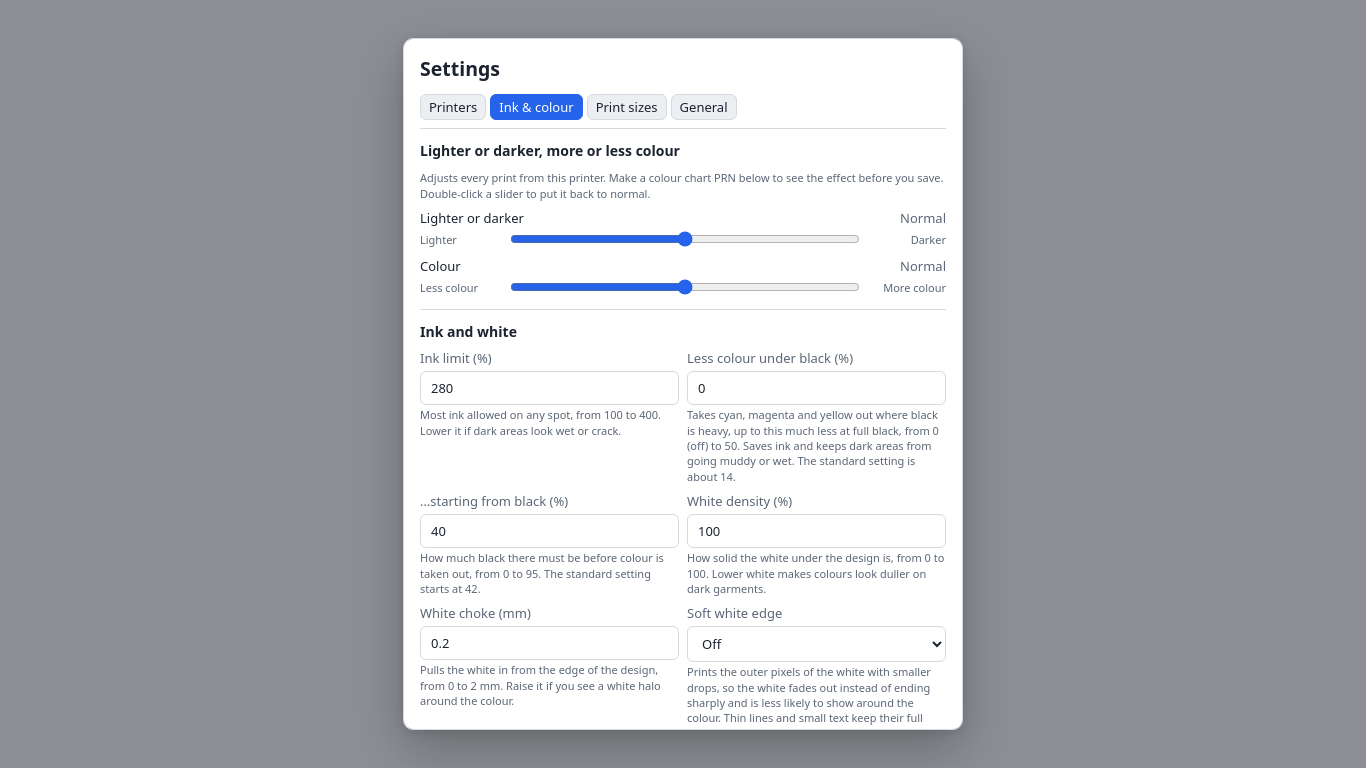
Test: Settings › Ink & colour › saves less colour under black, and refuses more than 50 %
Replace the text in the number field labelled "Less colour under black (%)" with "60": (816, 388) [687,371,946,405]
(page scrolled)
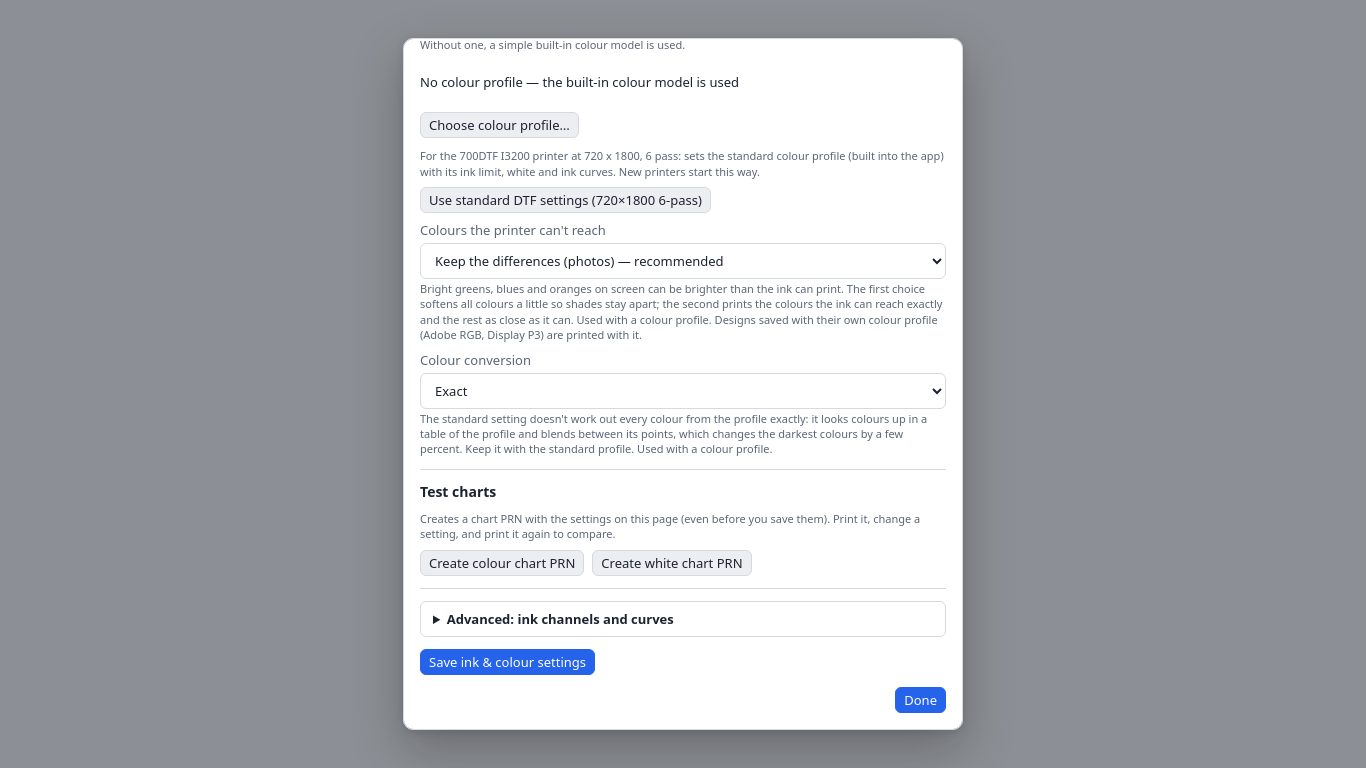
Click the button "Save ink & colour settings": (508, 662) [420,648,595,674]
(page scrolled)
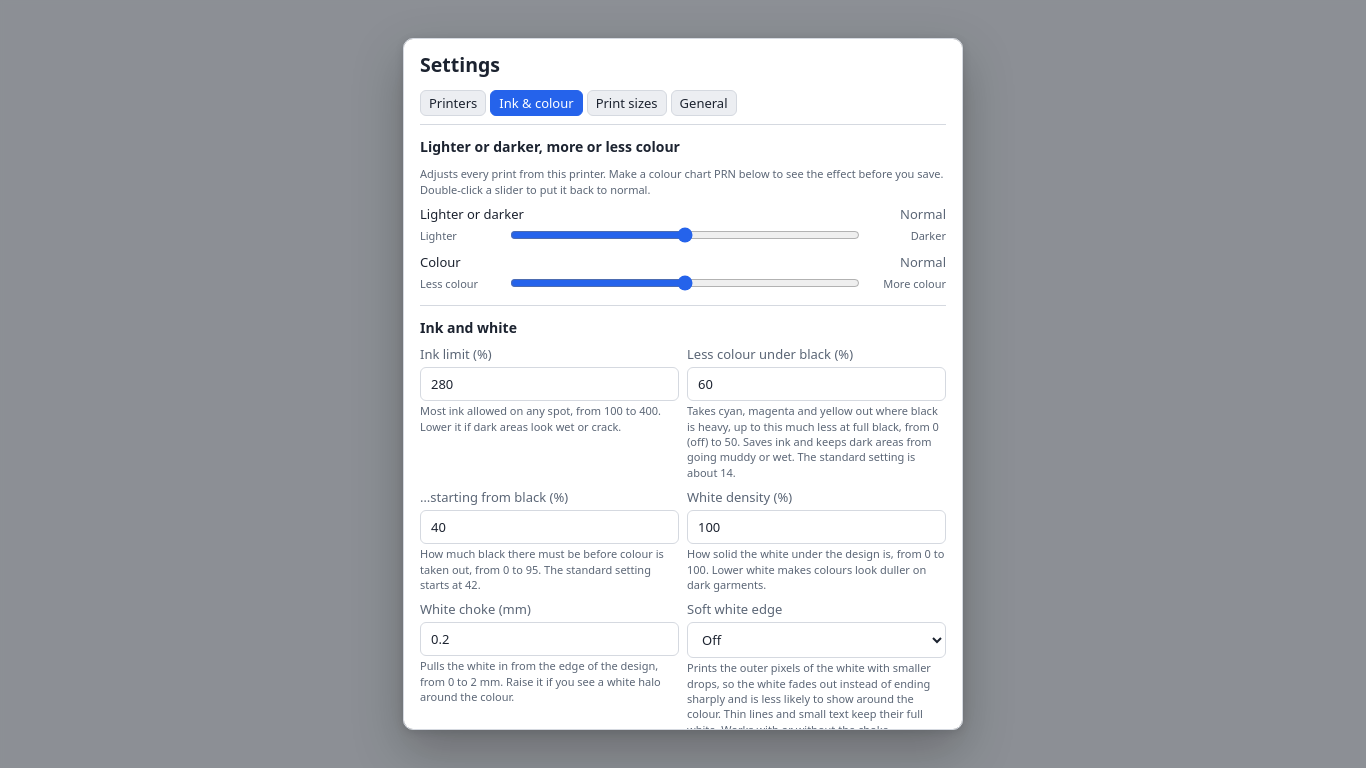
Replace the text in the number field labelled "Less colour under black (%)" with "10": (816, 384) [687,367,946,401]
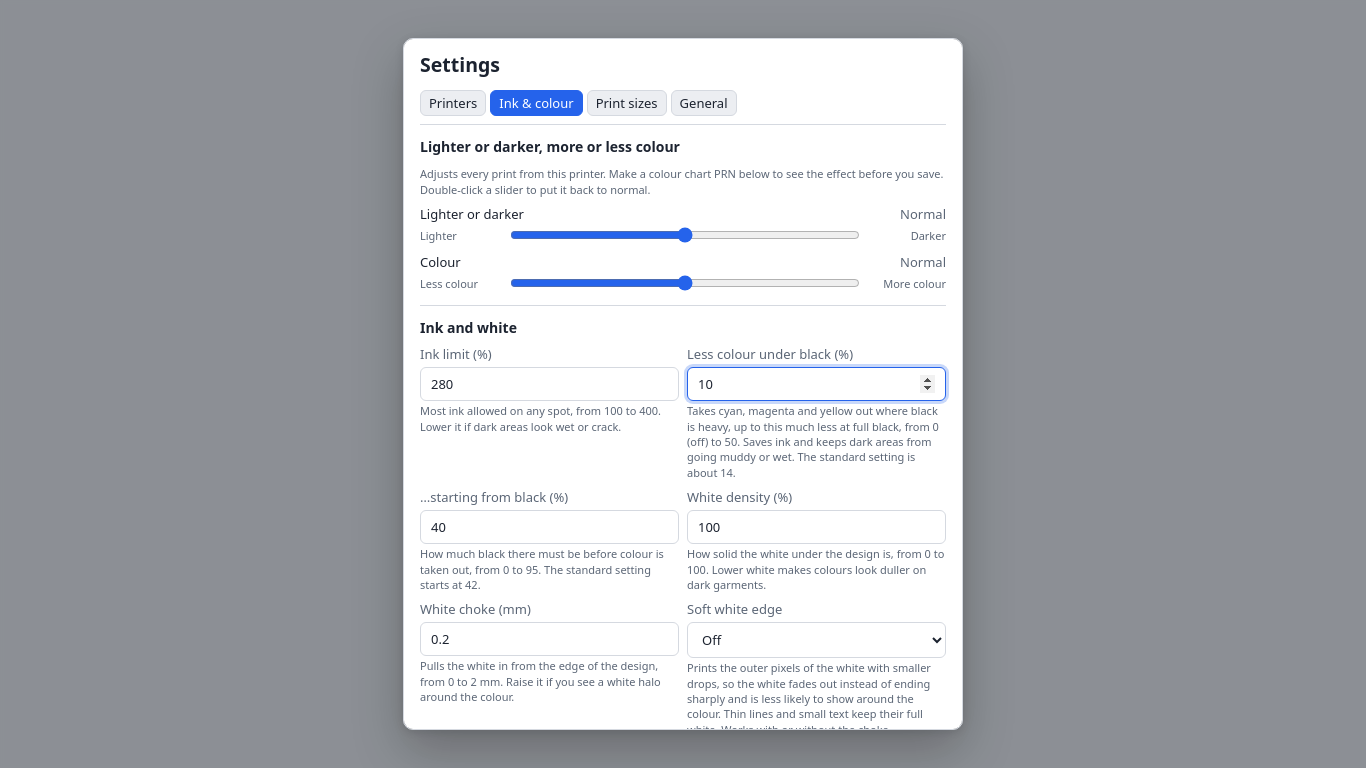
Replace the text in the number field labelled "…starting from black (%)" with "50": (550, 527) [420,510,679,544]
(page scrolled)
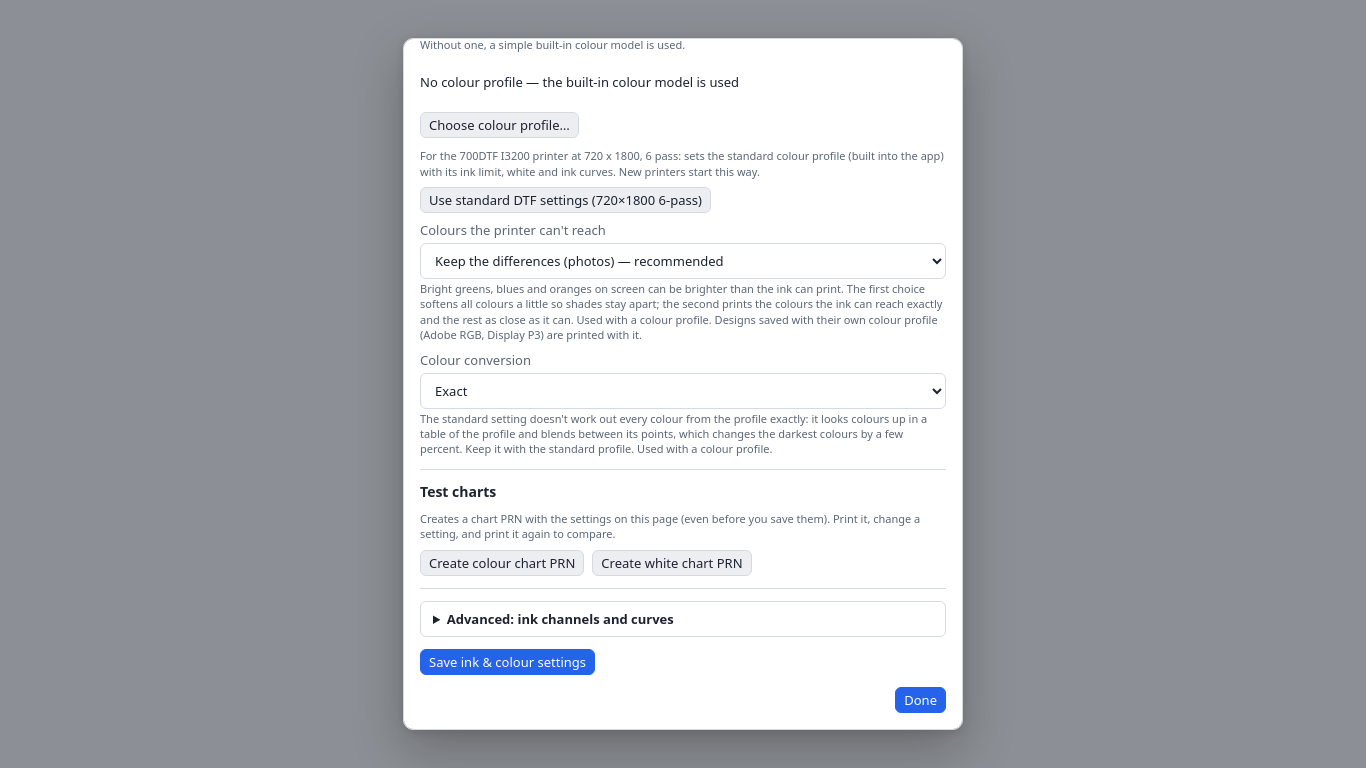
Click the button "Save ink & colour settings": (508, 662) [420,648,595,674]
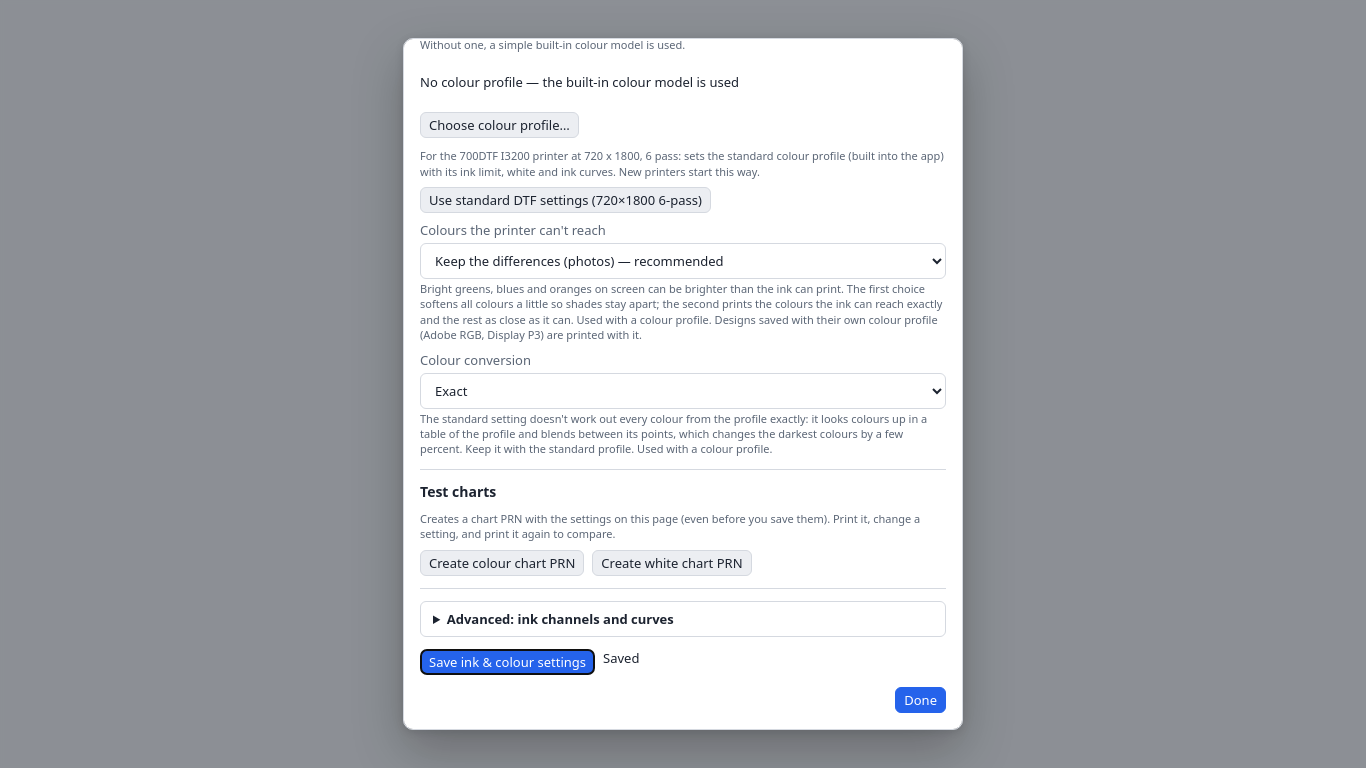
Expected: the message "Saved" is shown, [603,648,639,674]
